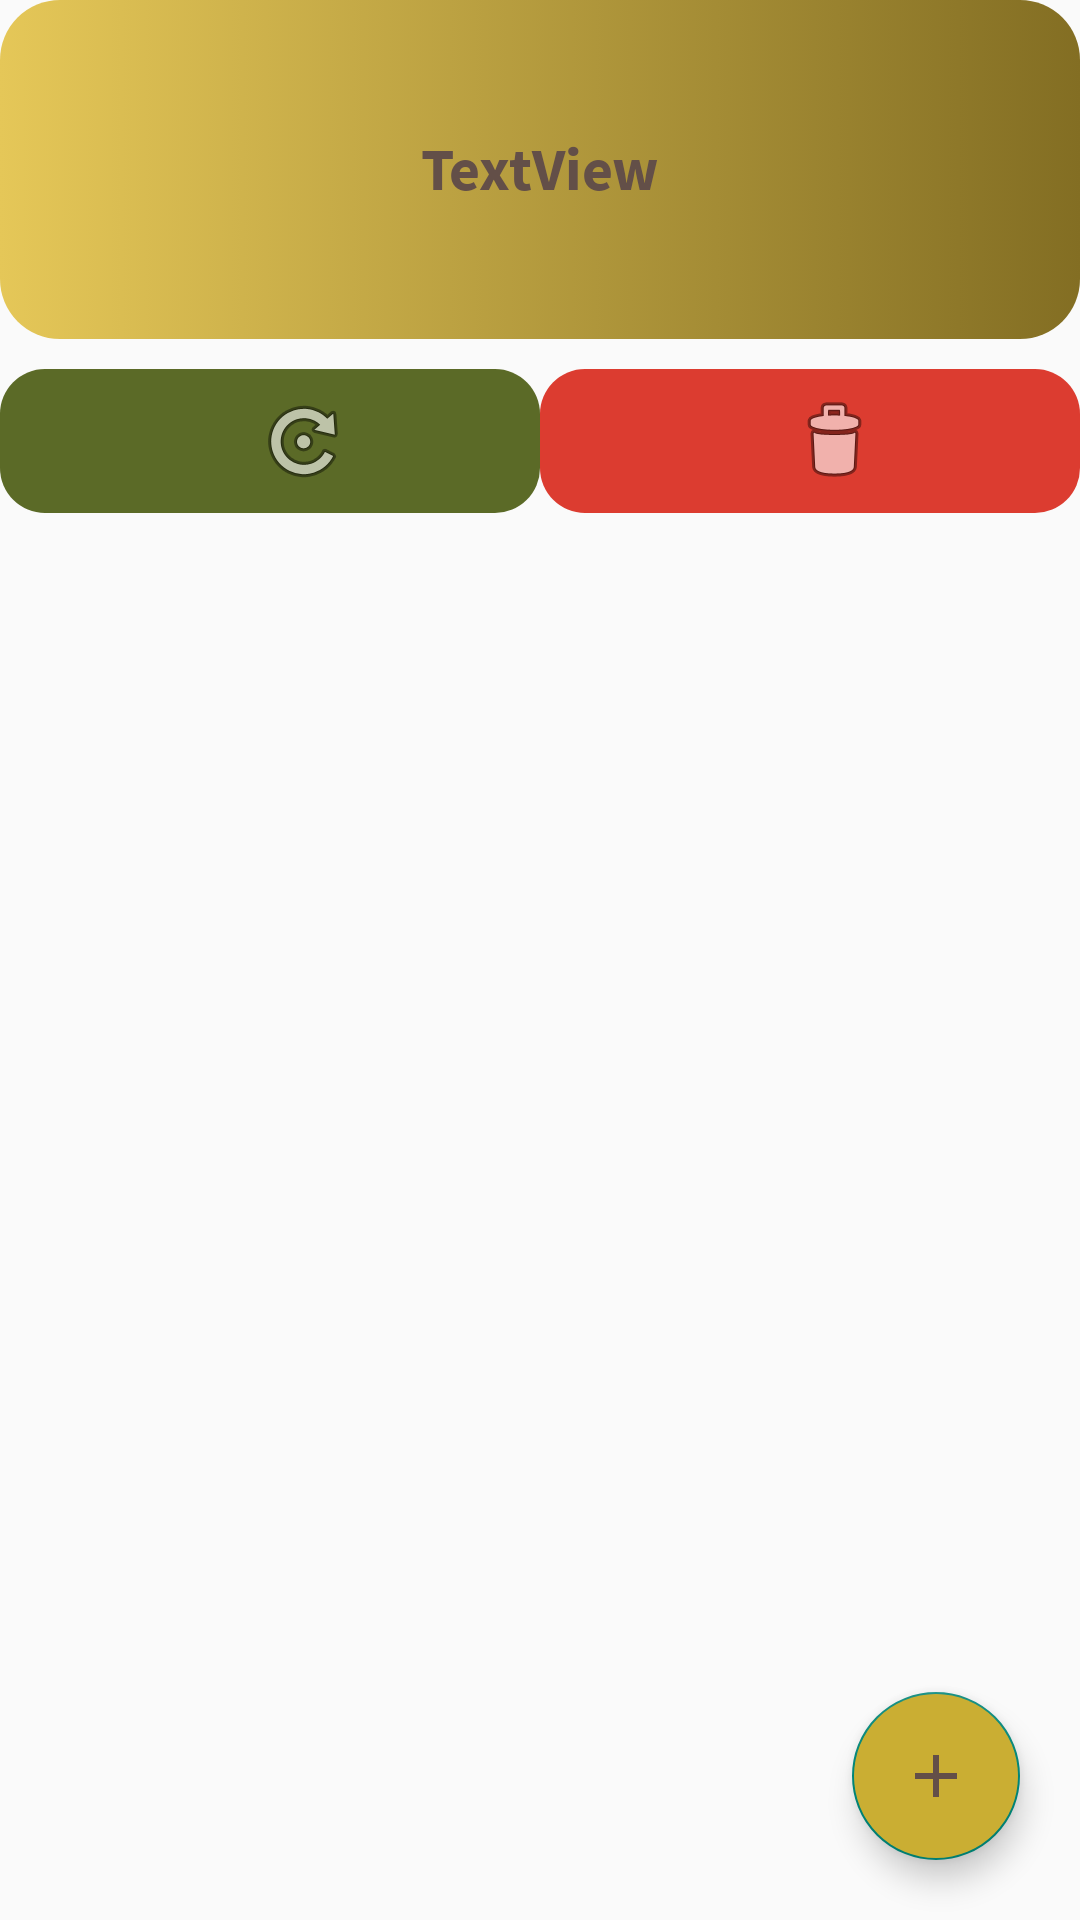

Point at icon controls on the screen. Image size 1080x1920, points as [x,y].
add: [936,1776]
